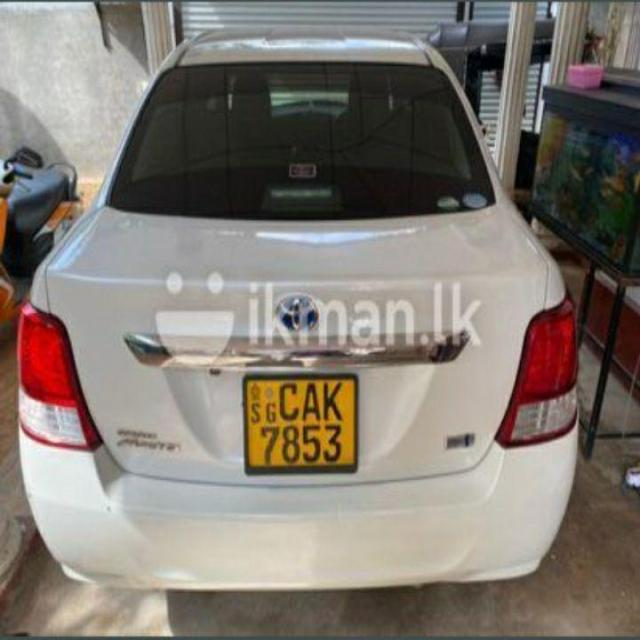license-plate: (245, 379, 356, 467)
